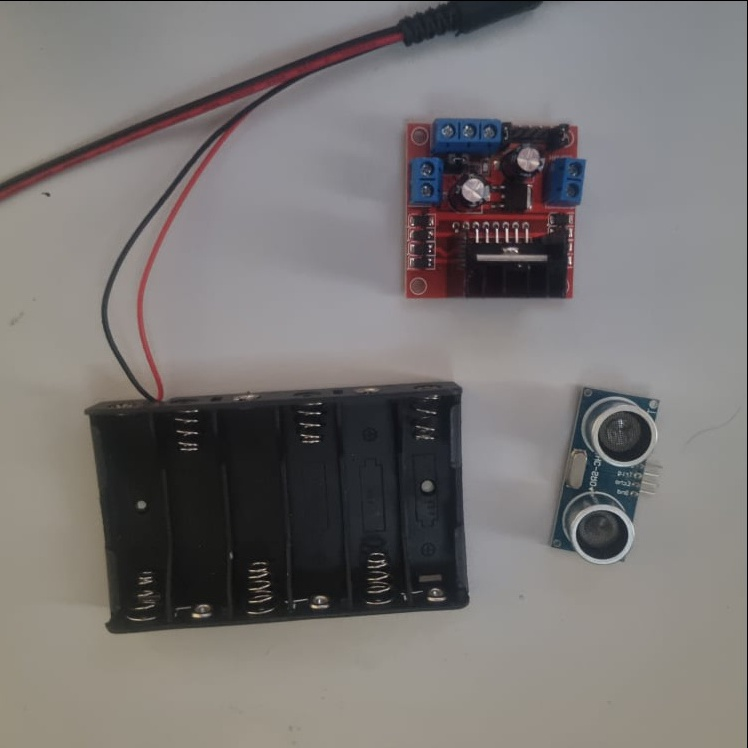BATTERY BOX: (83, 382, 473, 637)
MOTOR: (404, 118, 587, 299)
SENSOR: (550, 384, 666, 569)
